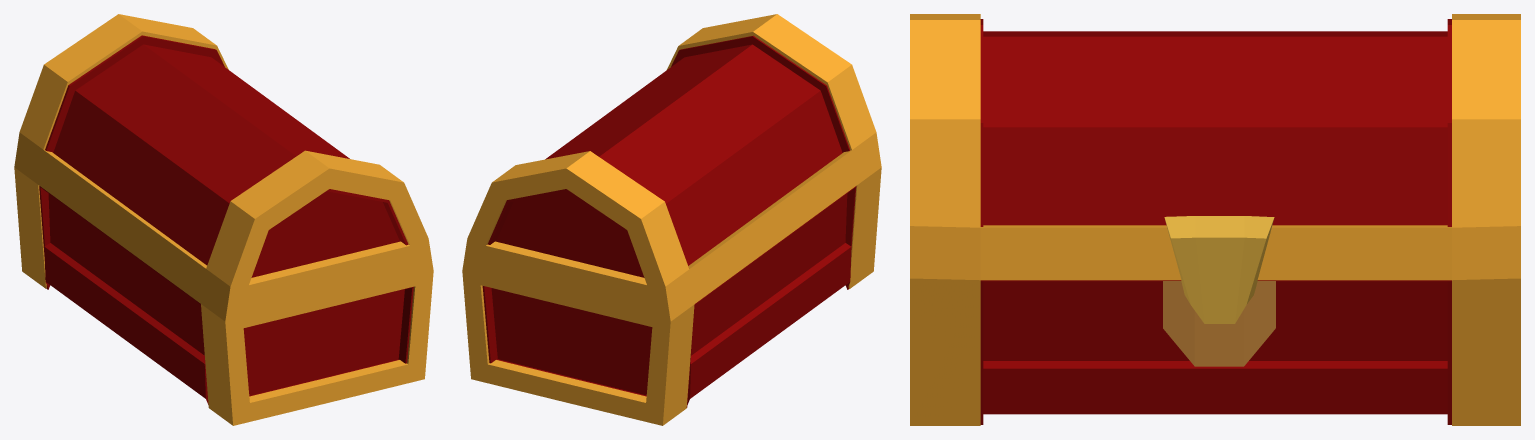
The model's file is Chest_5.fbx.
The picture shows the model from 3 angles, left to right: view 1: azimuth 30°, elevation 25°; view 2: azimuth 150°, elevation 25°; view 3: azimuth 270°, elevation 25°; orthographic projection. The views are drawn at different scales.
Parts seen in each view (by area): view 1: Cylinder, Cylinder.002; view 2: Cylinder, Cylinder.002; view 3: Cylinder, Cylinder.002, a, Cylinder.001.
Boxes of the visible parts, <box> form: Cylinder: <box>39,35,413,404</box>; Cylinder.002: <box>14,14,433,425</box>; Cylinder: <box>482,35,856,407</box>; Cylinder.002: <box>462,14,881,425</box>; Cylinder: <box>980,19,1451,424</box>; Cylinder.002: <box>910,14,1520,425</box>; a: <box>1164,216,1274,323</box>; Cylinder.001: <box>1163,281,1275,366</box>.
Size of the model in its own units: 218 by 215 by 351.
